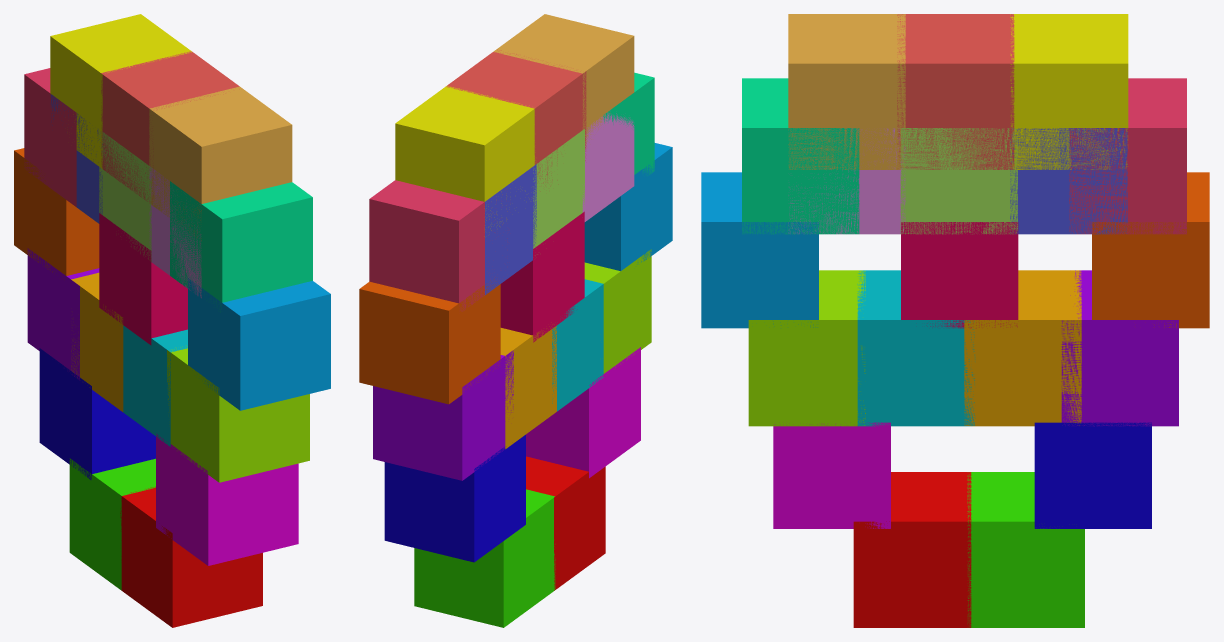
File: loop face.fbx
3 renders of one model, left to right at view 1: azimuth 30°, elevation 25°; view 2: azimuth 150°, elevation 25°; view 3: azimuth 270°, elevation 25°, orthographic. The views are drawn at different scales.
Visible parts, largest first — view 1: Cube; view 2: Cube; view 3: Cube.
Part boxes in pixels (bbox=[...]): Cube: bbox=[14, 14, 330, 627]; Cube: bbox=[359, 14, 672, 627]; Cube: bbox=[701, 14, 1209, 627].
Size of the model in its own units: 200 by 1060 by 865.
